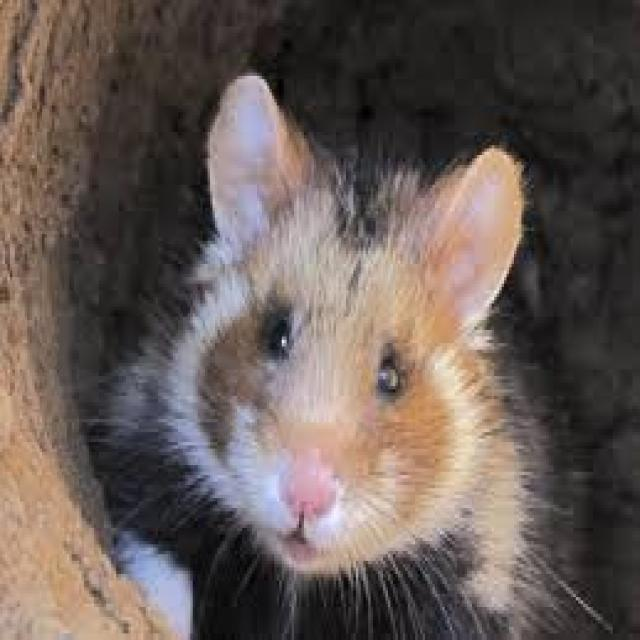hamster: (154, 164, 528, 631)
